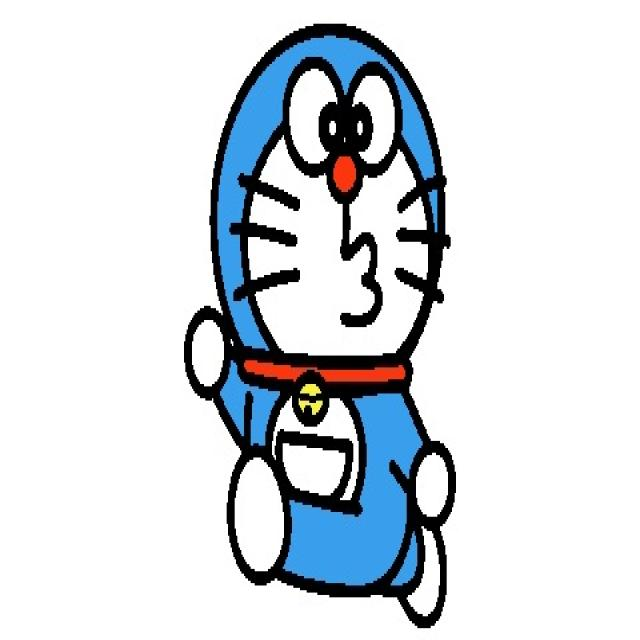doraemon: (190, 12, 458, 514)
